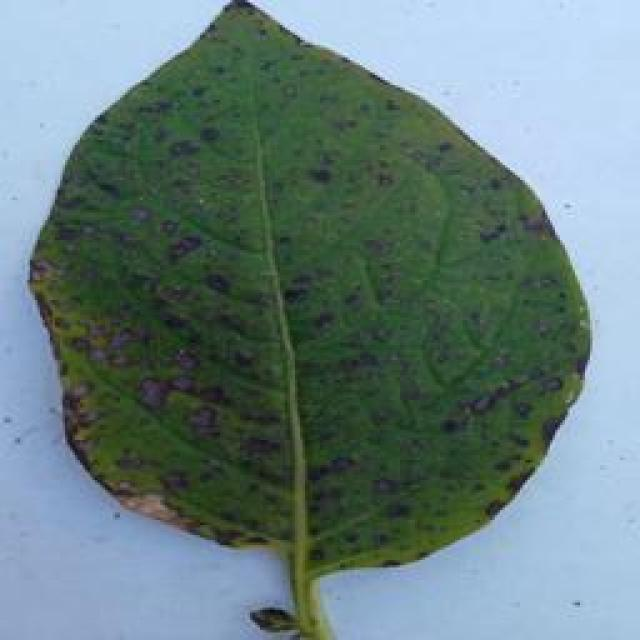Potato_Early_Blight: (28, 0, 599, 576)
